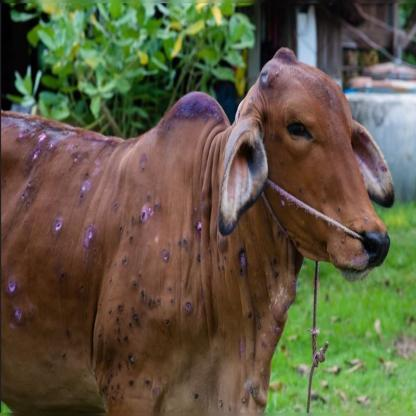cow: (0, 7, 382, 416)
injured: (86, 196, 198, 328), (11, 122, 67, 236)
